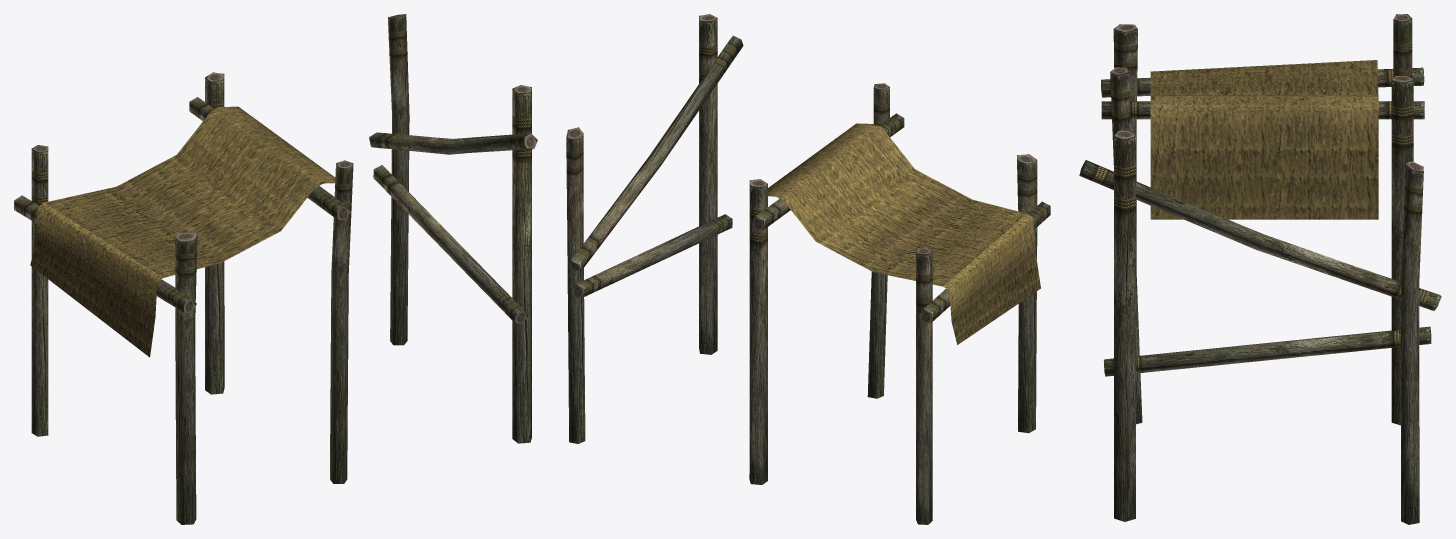
Rendered from thing_hake_01.glb.
3 views of the same model, side by side, from view 1: azimuth 30°, elevation 25°; view 2: azimuth 150°, elevation 25°; view 3: azimuth 270°, elevation 25° (orthographic). The views are drawn at different scales.
Visible parts, largest first — view 1: thing_hake_01; view 2: thing_hake_01; view 3: thing_hake_01.
Part boxes in pixels (x1,y1,x2,y2): thing_hake_01: (14,14,537,524); thing_hake_01: (566,14,1050,524); thing_hake_01: (1079,14,1441,524).
Size of the model in its own units: 5.65 by 4.8 by 4.12.
Materials: 1 (1 with a texture image).
